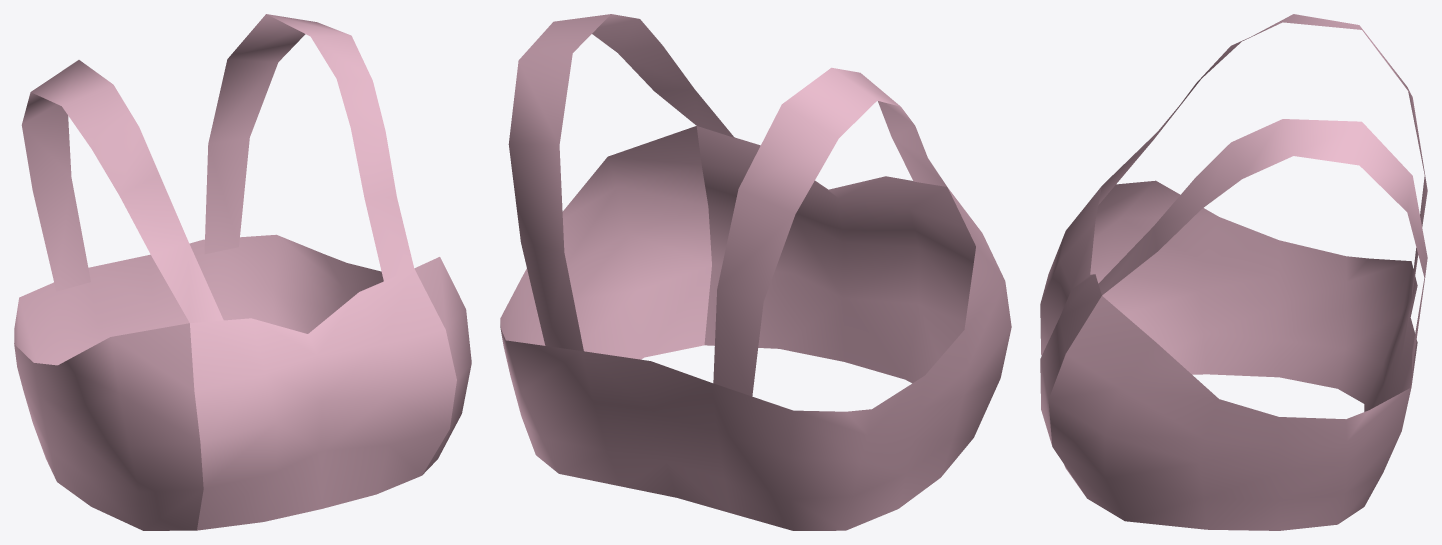
The model's file is blouse_11.glb.
3 views of the same model, side by side, from view 1: azimuth 30°, elevation 25°; view 2: azimuth 150°, elevation 25°; view 3: azimuth 270°, elevation 25° (orthographic). The views are drawn at different scales.
Parts seen in each view (by area): view 1: Blouse_11; view 2: Blouse_11; view 3: Blouse_11.
Boxes of the visible parts, box(x1,y1,x2,y2) form: Blouse_11: box(14, 14, 471, 530); Blouse_11: box(500, 14, 1011, 530); Blouse_11: box(1040, 14, 1427, 530).
Bounding box in the file's own units: 0.2752 × 0.2719 × 0.2473.
